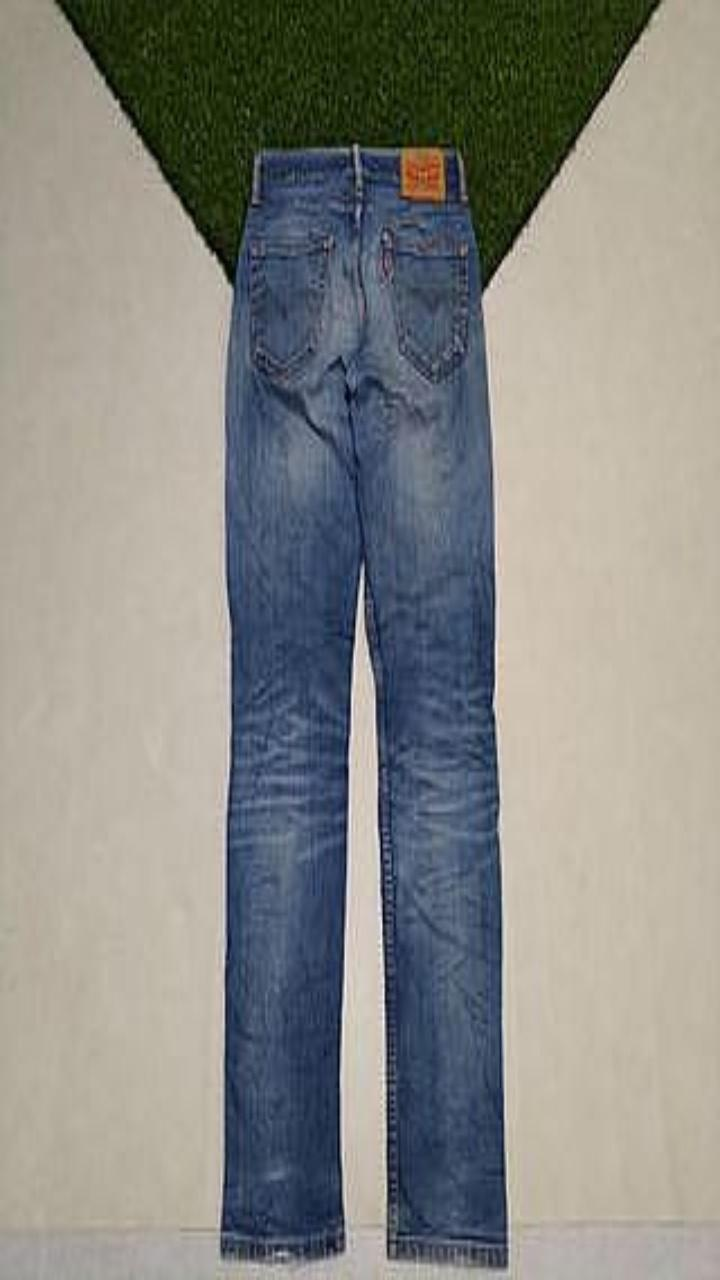Jeans: (220, 143, 507, 1266)
